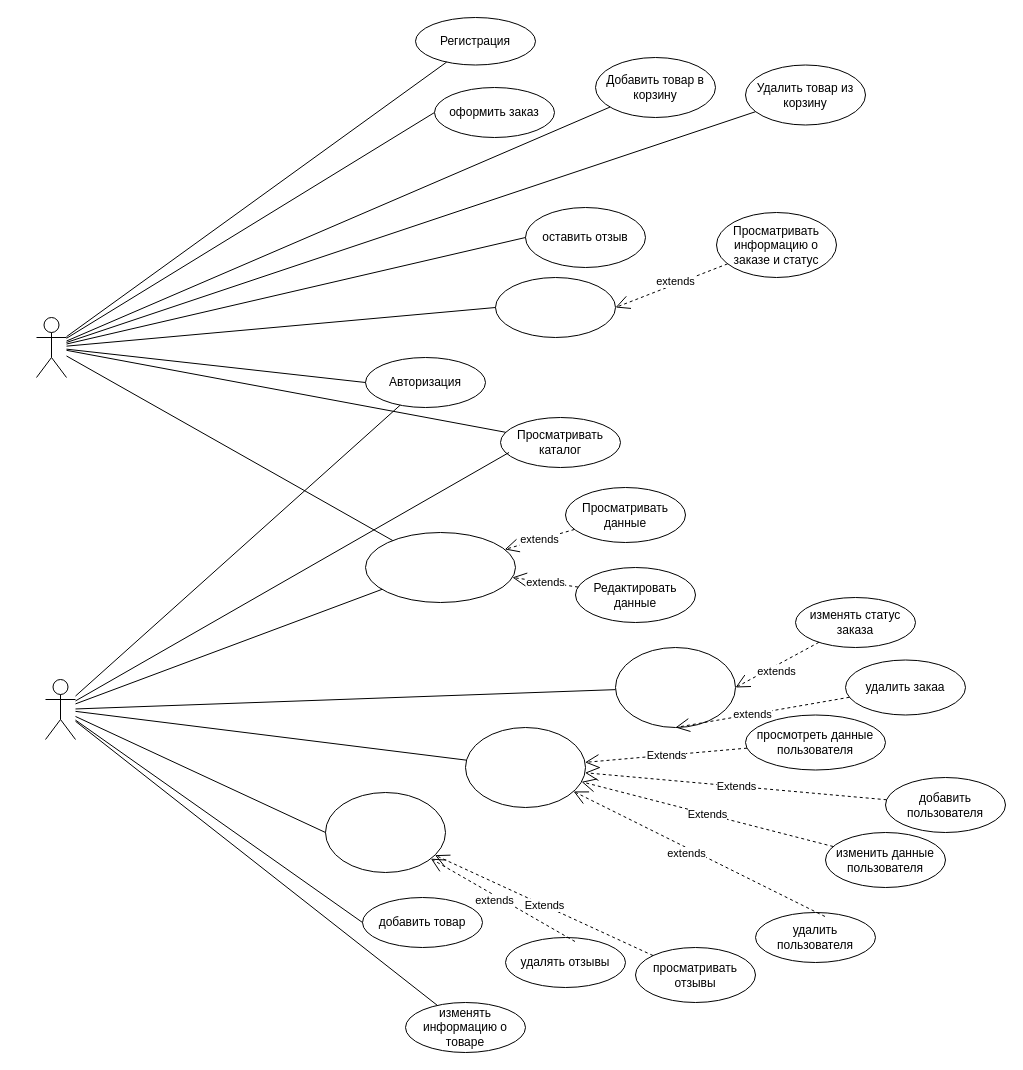
Image size: 1023x1070. Some labels were removed from this diagram. Here are the shapes that lost their labels. From the top down, the centre of each, then its label:
At point (555, 307): "Просматривать историю заказов".
At point (51, 347): "Клиент".
At point (440, 567): "Взаимодействовать с профилем".
At point (675, 687): "взаимодействовать с заказом".
At point (60, 709): "Администратор".
At point (525, 767): "взаимодействовать с пользователями".
At point (385, 832): "взаимодействовать с отзывами".
